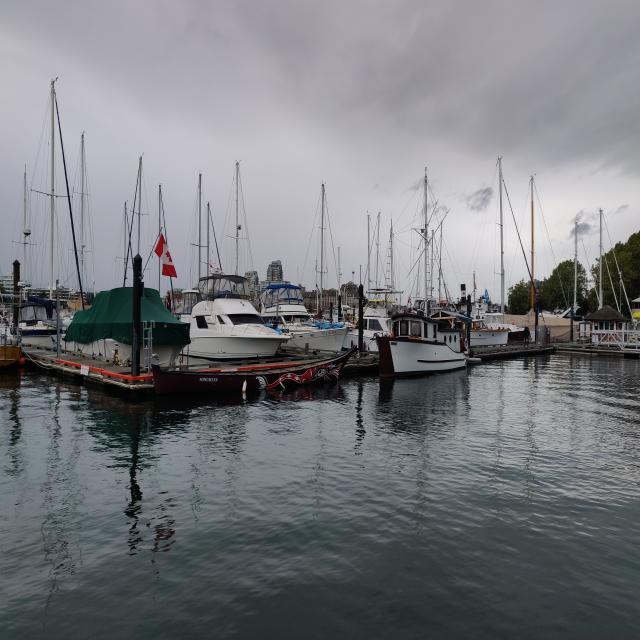boat: (16, 76, 67, 349), (170, 272, 292, 362), (62, 287, 191, 367), (250, 282, 350, 352), (374, 313, 467, 382), (471, 306, 528, 344), (462, 318, 509, 350)
skiff: (150, 344, 358, 402)
